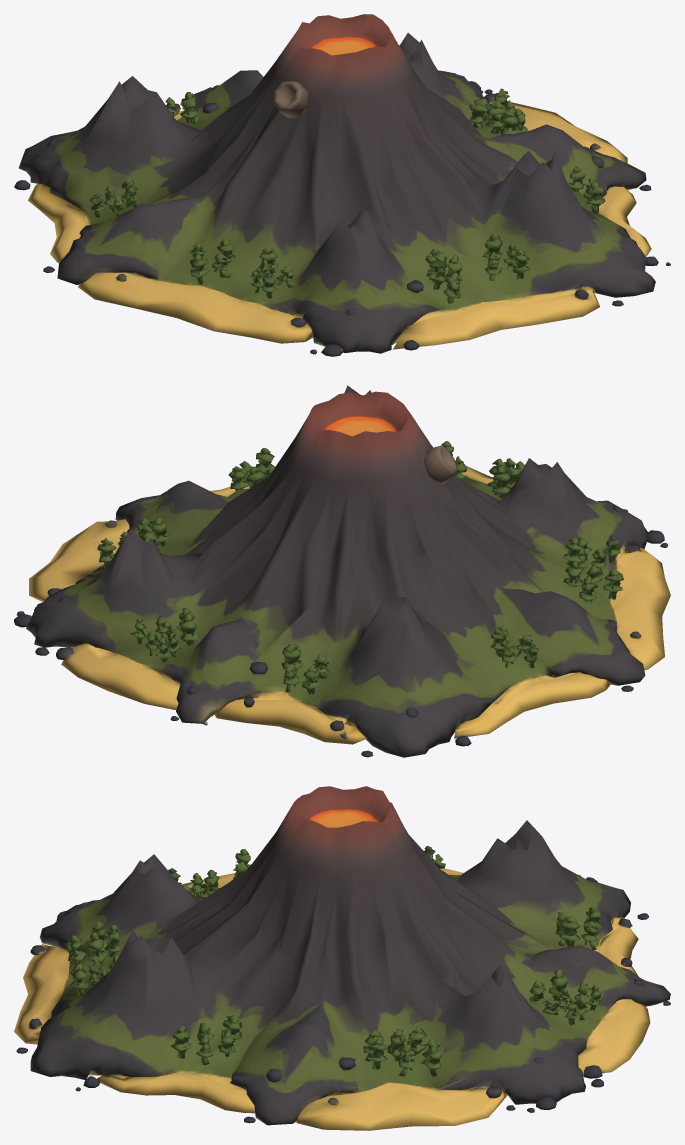
Rendered from volcano_p1.glb.
3 views of the same model, one above another, from view 1: azimuth 30°, elevation 25°; view 2: azimuth 150°, elevation 25°; view 3: azimuth 270°, elevation 25° (orthographic). The views are drawn at different scales.
Visible parts, largest first — view 1: tripo_node_bdb335e5-a1ac-45af-a55a-5f7e6e539d71; view 2: tripo_node_bdb335e5-a1ac-45af-a55a-5f7e6e539d71; view 3: tripo_node_bdb335e5-a1ac-45af-a55a-5f7e6e539d71.
Part boxes in pixels (x1,y1,x2,y2): tripo_node_bdb335e5-a1ac-45af-a55a-5f7e6e539d71: (14, 14, 670, 356); tripo_node_bdb335e5-a1ac-45af-a55a-5f7e6e539d71: (14, 385, 670, 757); tripo_node_bdb335e5-a1ac-45af-a55a-5f7e6e539d71: (14, 786, 670, 1130).
Bounding box in the file's own units: 0.998 × 0.3223 × 0.998.
1 material, 1 textured.
